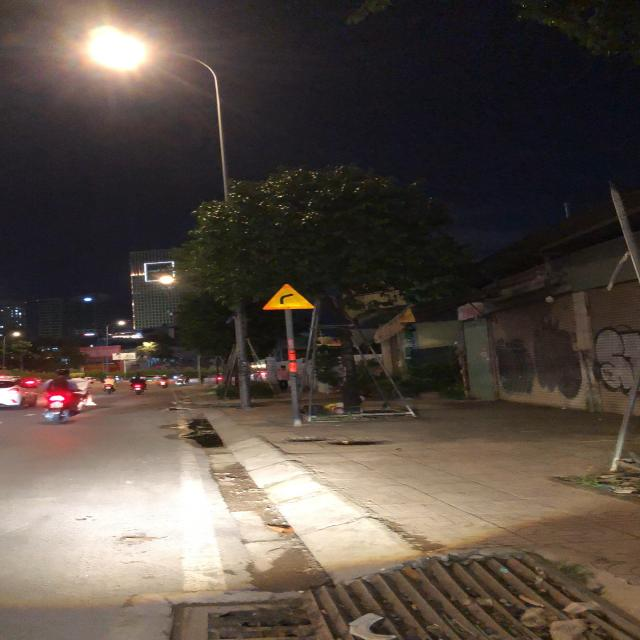Bien bao cho ngoat nguy hiem: (252, 282, 324, 310)
